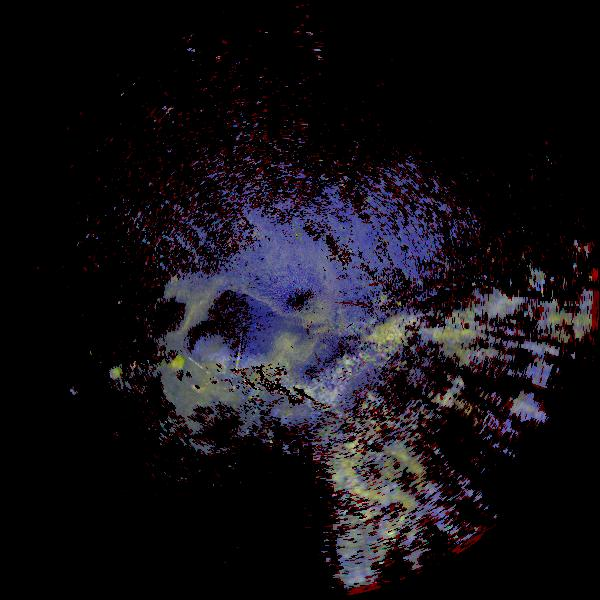roost: (173, 359, 185, 371), (110, 369, 119, 378)
